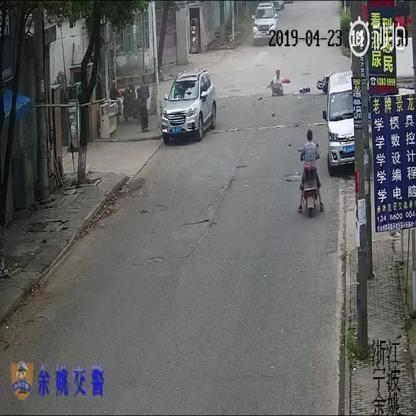target: (297, 129, 325, 214)
